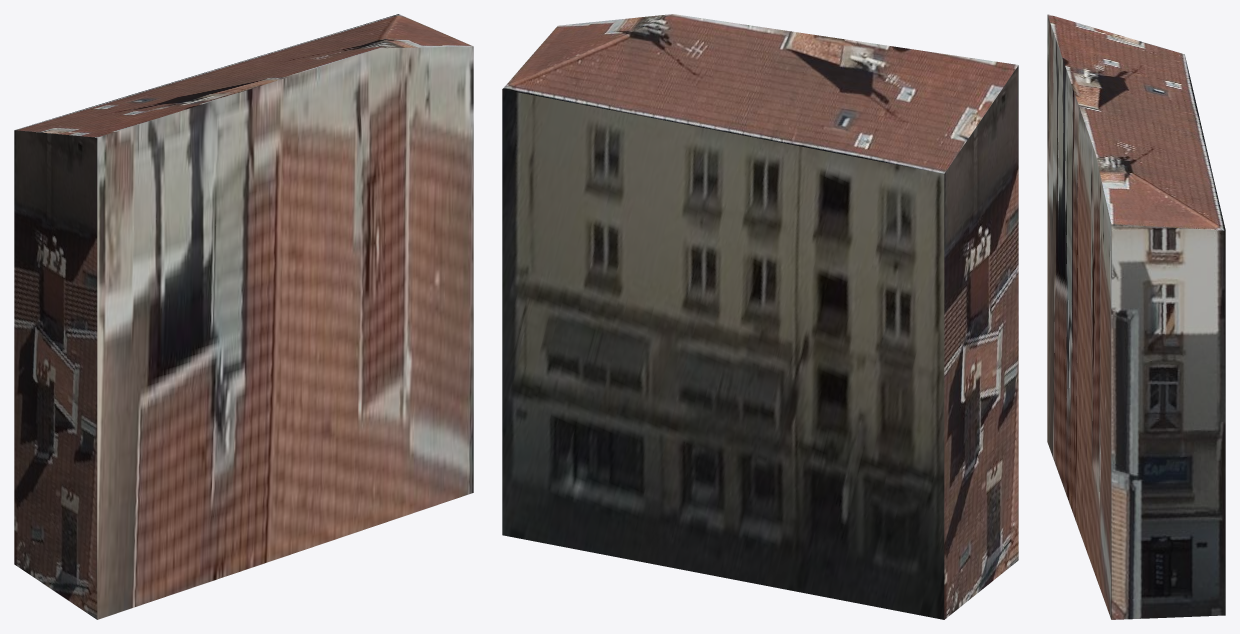
3 renders of one model, left to right at view 1: azimuth 30°, elevation 25°; view 2: azimuth 150°, elevation 25°; view 3: azimuth 270°, elevation 25°, orthographic. The views are drawn at different scales.
Visible parts, largest first — view 1: Z_UP; view 2: Z_UP; view 3: Z_UP.
Part boxes in pixels (x1,y1,x2,y2): Z_UP: (14,14,473,619); Z_UP: (502,14,1018,619); Z_UP: (1047,14,1225,619).
Size of the model in its own units: 18.39 by 20.29 by 7.68.
Materials: 2 (1 with a texture image).
